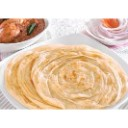parota: (35, 46, 124, 106)
